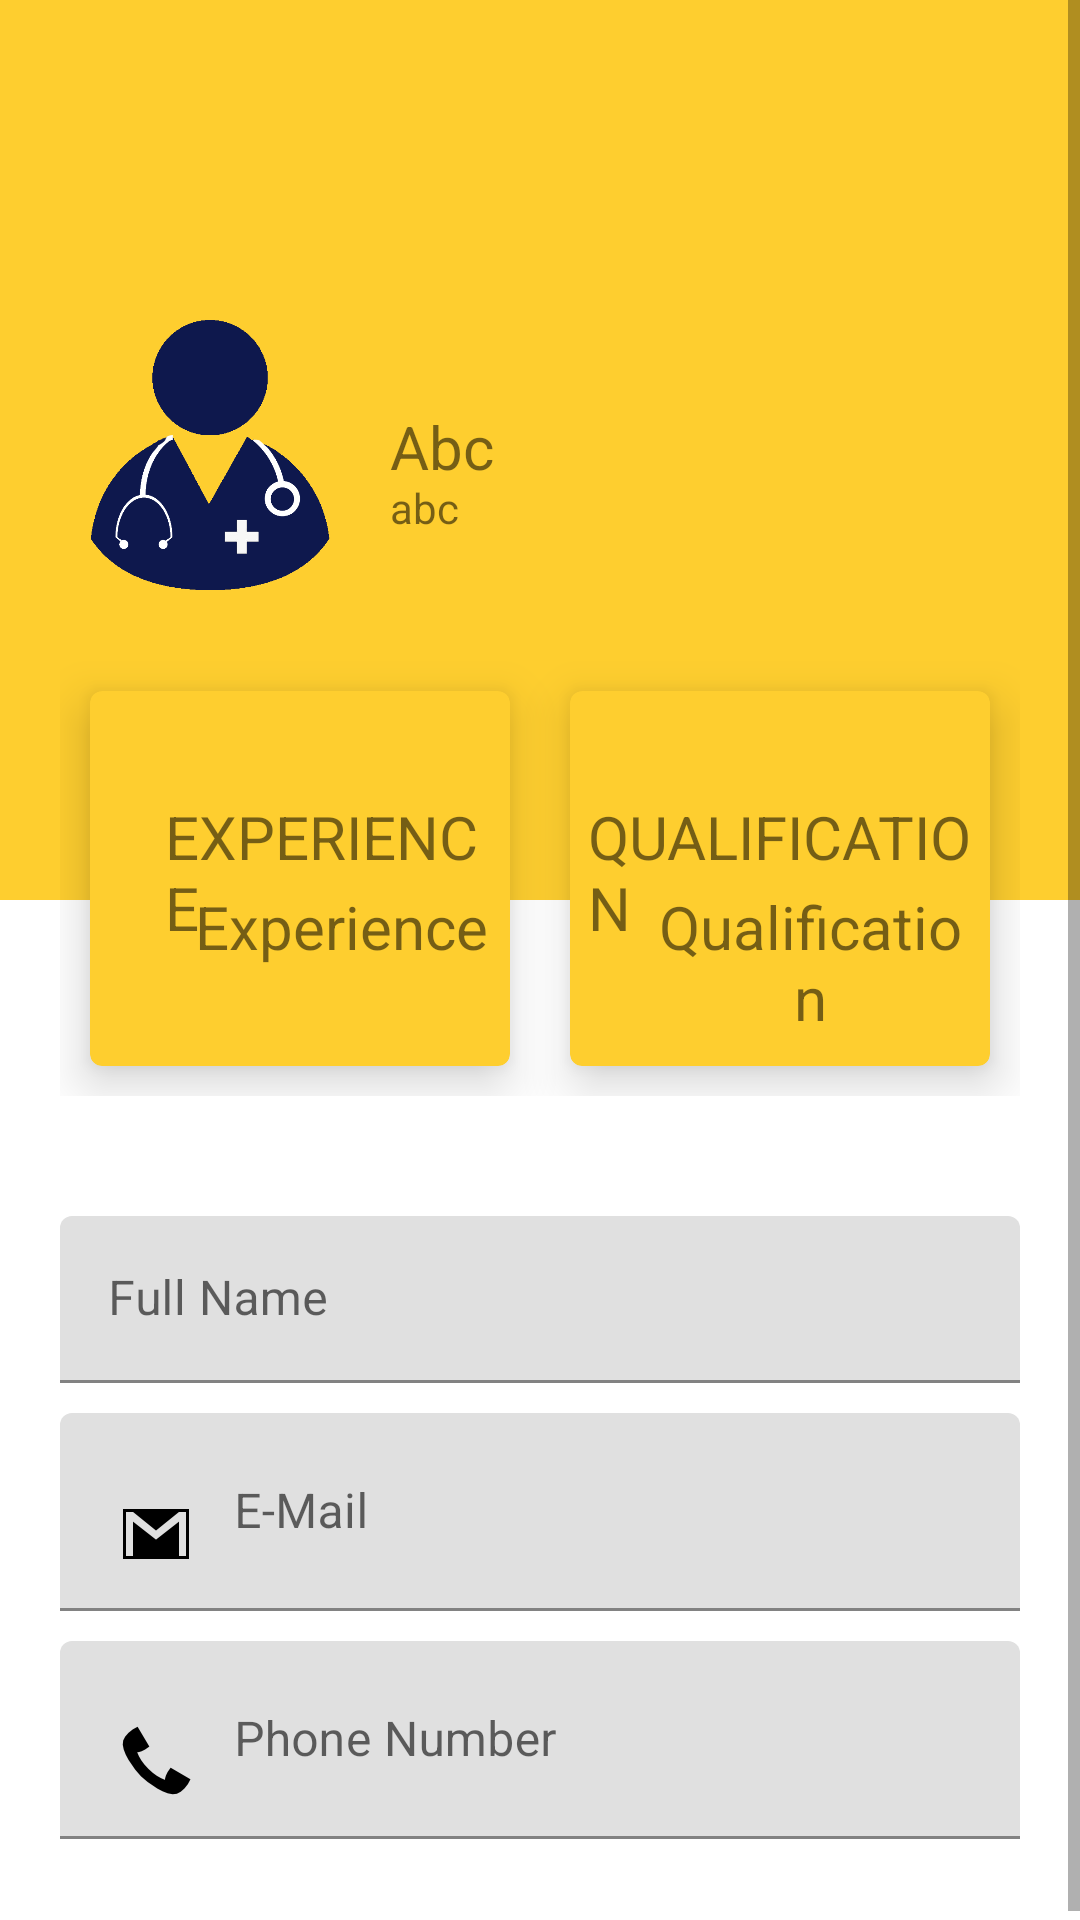

Screen size 1080*1920. Icon name, then its box in pixels as (x1, y1, x2, y2):
doctorre: (91, 320, 330, 590)
